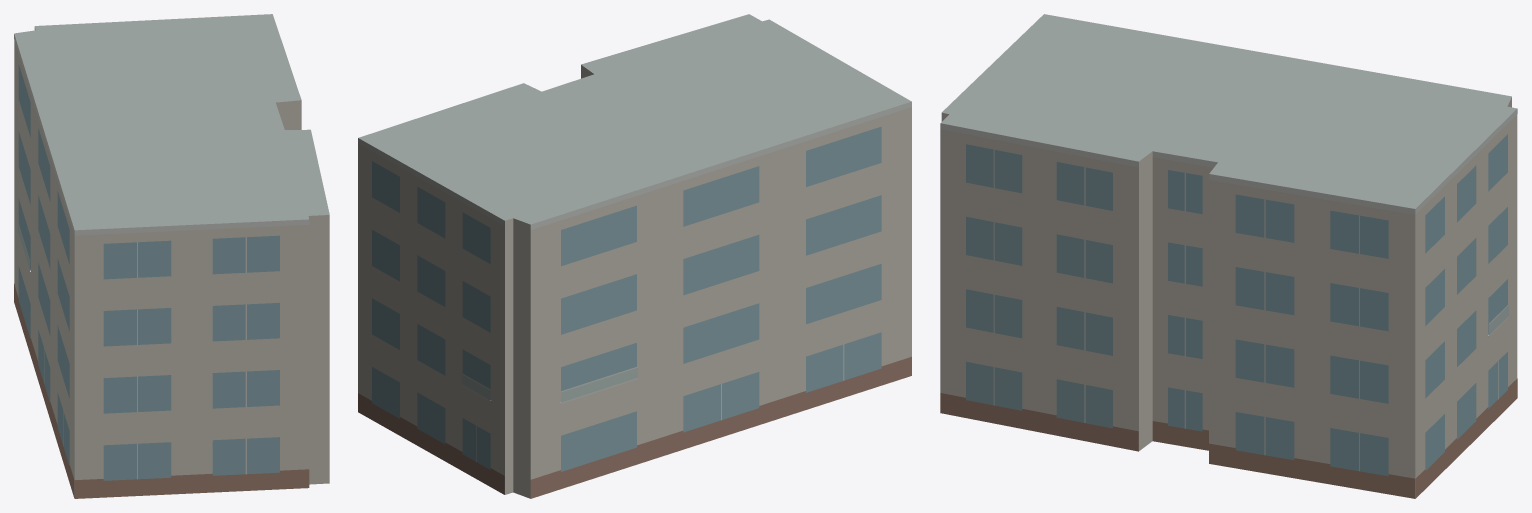
Rendered from survey-upis-32825593.glb.
The picture shows the model from 3 angles, left to right: view 1: azimuth 30°, elevation 25°; view 2: azimuth 150°, elevation 25°; view 3: azimuth 270°, elevation 25°; orthographic projection. The views are drawn at different scales.
Parts seen in each view (by area): view 1: survey-upis-32825593.tmp; view 2: survey-upis-32825593.tmp; view 3: survey-upis-32825593.tmp.
Part boxes in pixels (x1,y1,x2,y2): survey-upis-32825593.tmp: [14, 14, 329, 498]; survey-upis-32825593.tmp: [358, 14, 911, 498]; survey-upis-32825593.tmp: [940, 14, 1517, 498].
Bounding box in the file's own units: 17.46 × 12.1 × 21.83.
